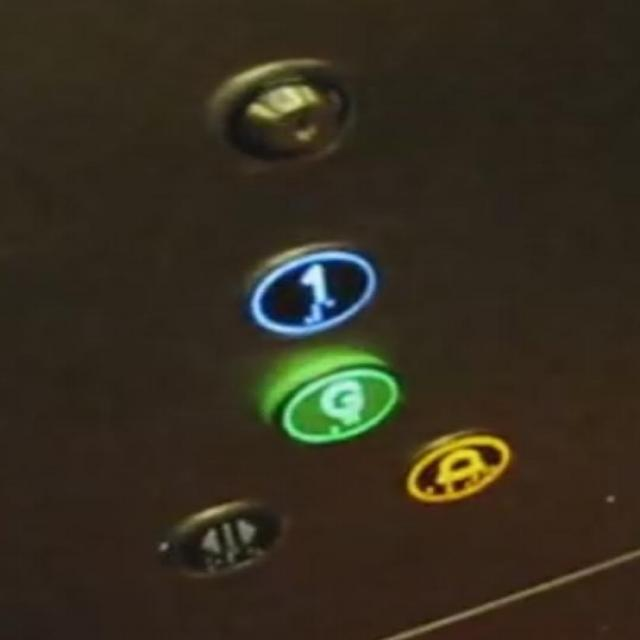1: (236, 238, 383, 339)
G: (259, 348, 414, 448)
alarm: (398, 424, 518, 506)
keyhole: (201, 53, 366, 172)
open: (151, 496, 292, 584)
